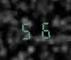five: (19, 20, 34, 40)
six: (35, 20, 50, 39)
